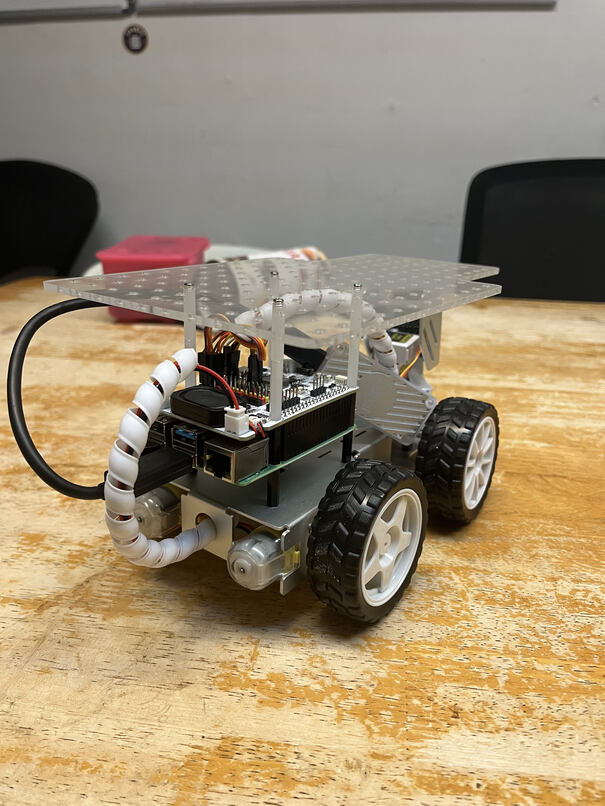vehicle: (3, 250, 528, 625)
